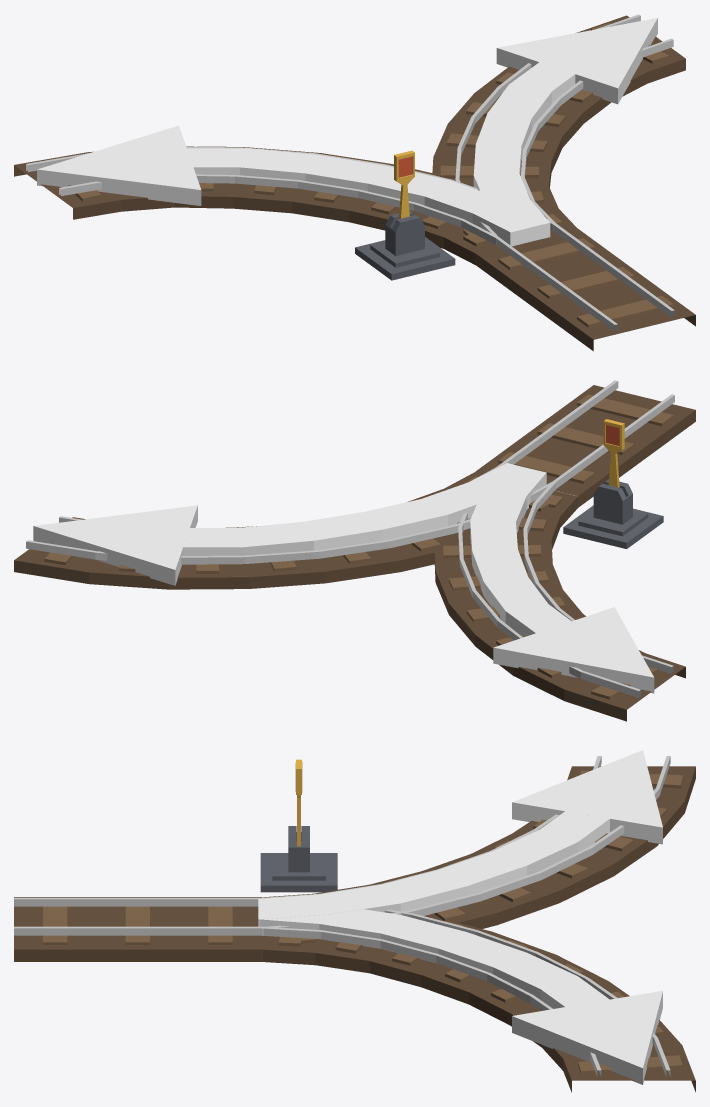
The model's file is Switch Split Sub.fbx.
3 renders of one model, top to bottom at view 1: azimuth 30°, elevation 25°; view 2: azimuth 150°, elevation 25°; view 3: azimuth 270°, elevation 25°, orthographic. The views are drawn at different scales.
Parts seen in each view (by area): view 1: 1 x Curve (×2), SwitchArrow-1xCurve, SwitchArrow-1xCurve (1), Straight 1x Legacy, Switchbox; view 2: 1 x Curve (×2), SwitchArrow-1xCurve (1), SwitchArrow-1xCurve, Straight 1x Legacy, Switchbox; view 3: 1 x Curve (×2), SwitchArrow-1xCurve, SwitchArrow-1xCurve (1), Straight 1x Legacy, Switchbox.
Boxes of the visible parts, x1,y1,x2,y2 form: 1 x Curve (×2): (14,14,685,264); SwitchArrow-1xCurve: (37,125,550,246); SwitchArrow-1xCurve (1): (473,18,657,244); Straight 1x Legacy: (476,224,695,351); Switchbox: (355,150,455,280); 1 x Curve (×2): (14,466,685,721); SwitchArrow-1xCurve (1): (33,463,546,585); SwitchArrow-1xCurve: (470,463,654,693); Straight 1x Legacy: (476,380,695,507); Switchbox: (563,419,663,548); 1 x Curve (×2): (262,756,695,1092); SwitchArrow-1xCurve: (258,750,662,926); SwitchArrow-1xCurve (1): (258,909,662,1084); Straight 1x Legacy: (14,897,261,961); Switchbox: (260,759,337,892).
Size of the model in its own units: 3.04 by 0.5236 by 2.75.
